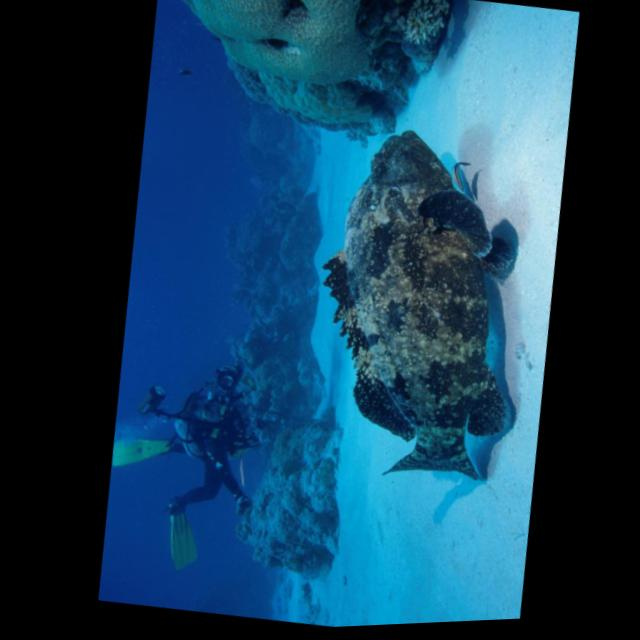Groupers: (282, 112, 555, 496)
